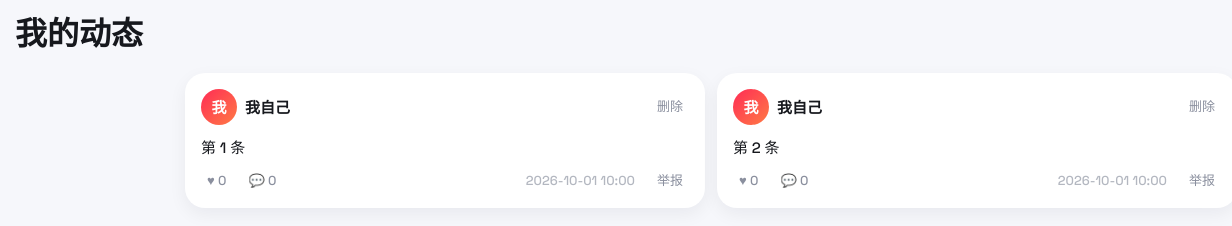
MyPostsPage › 确认后删除:列表里移除该条
What coordinates should you click on to do the following:
click the 1st button "删除"
I would click on:
 (670, 107)
Its box is [651, 97, 689, 118].
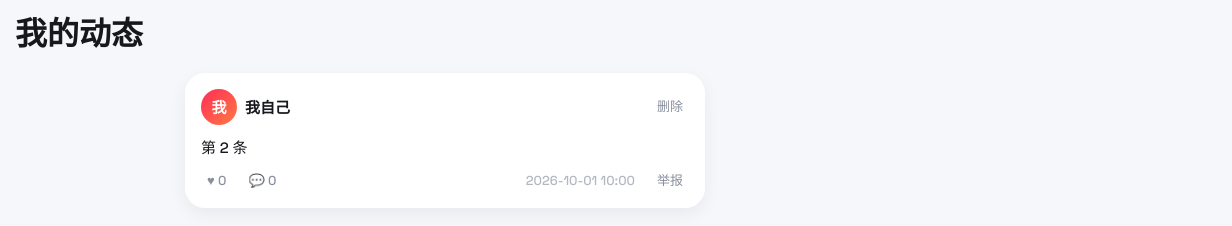
Check: the text "第 1 条" is gone
